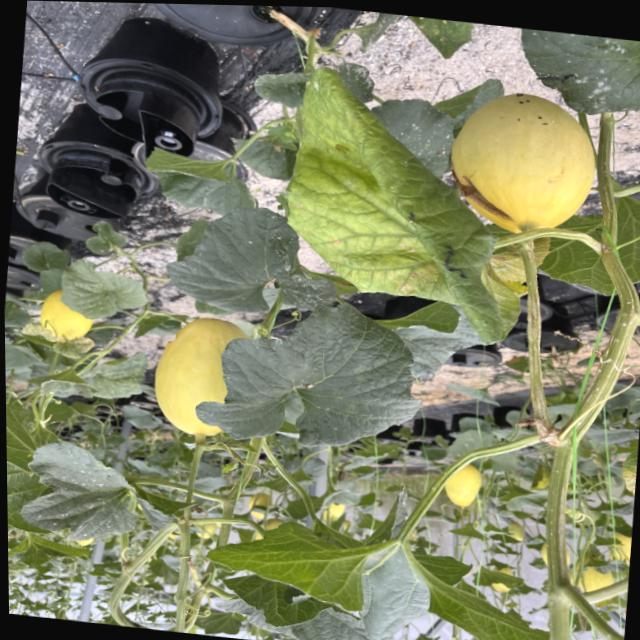downy mildew: (270, 64, 541, 311), (187, 289, 427, 461)
healthy: (198, 508, 474, 640), (159, 195, 354, 328), (144, 146, 252, 215)
powdery mildew: (21, 441, 161, 547), (507, 27, 640, 119), (357, 10, 482, 59)
